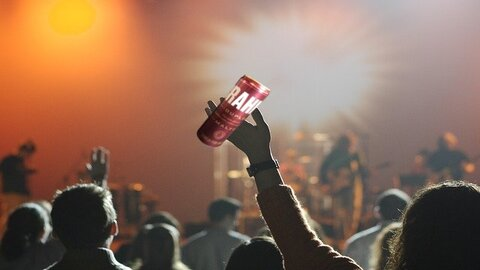duplo_malte: (199, 76, 269, 151)
